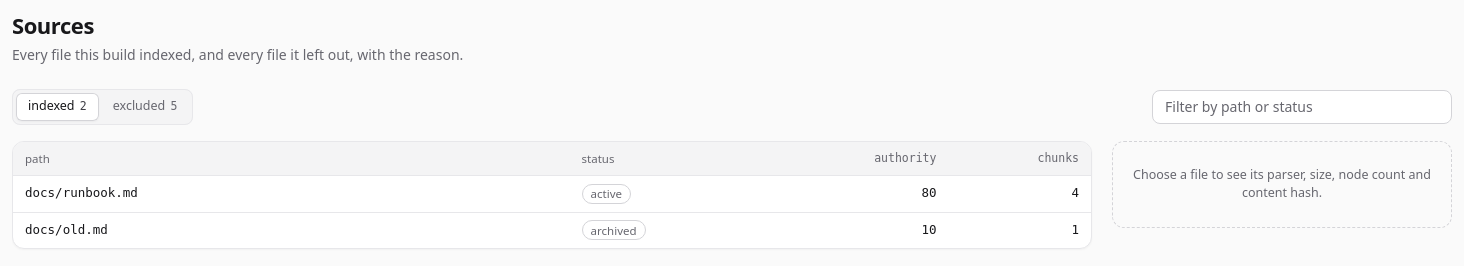
Test case: what was parsed › filters by path and by status
Expected: the button "docs/runbook.md" is shown, [25,184,558,203]
Type "archived" into the search field.
click(1302, 106); type("archived")  # box [1152,90,1452,124]
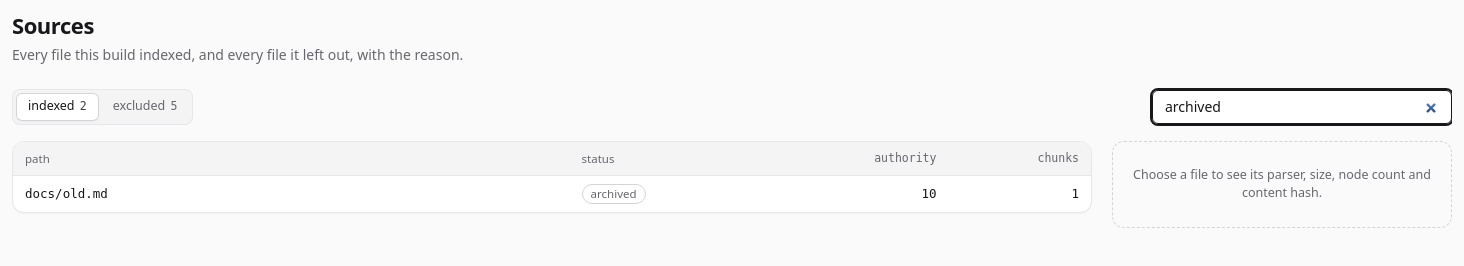
Expected: the button "docs/old.md" is shown, [25,185,558,203]
Expected: the button "docs/runbook.md" is gone
